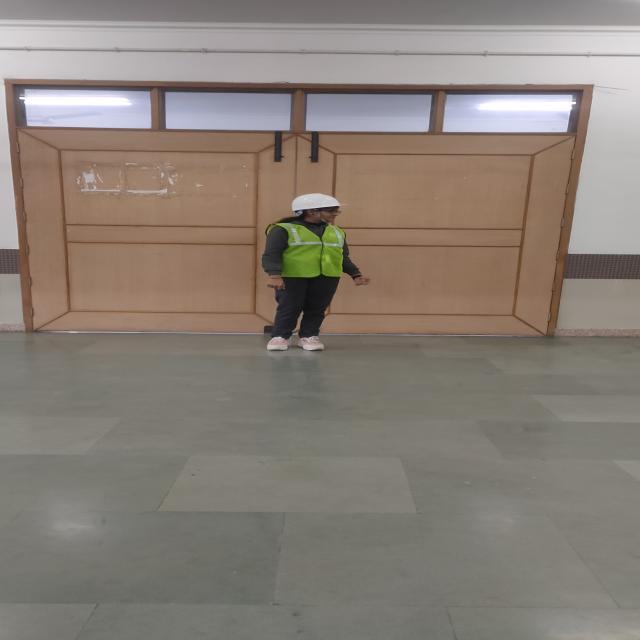safe: (263, 193, 348, 349)
